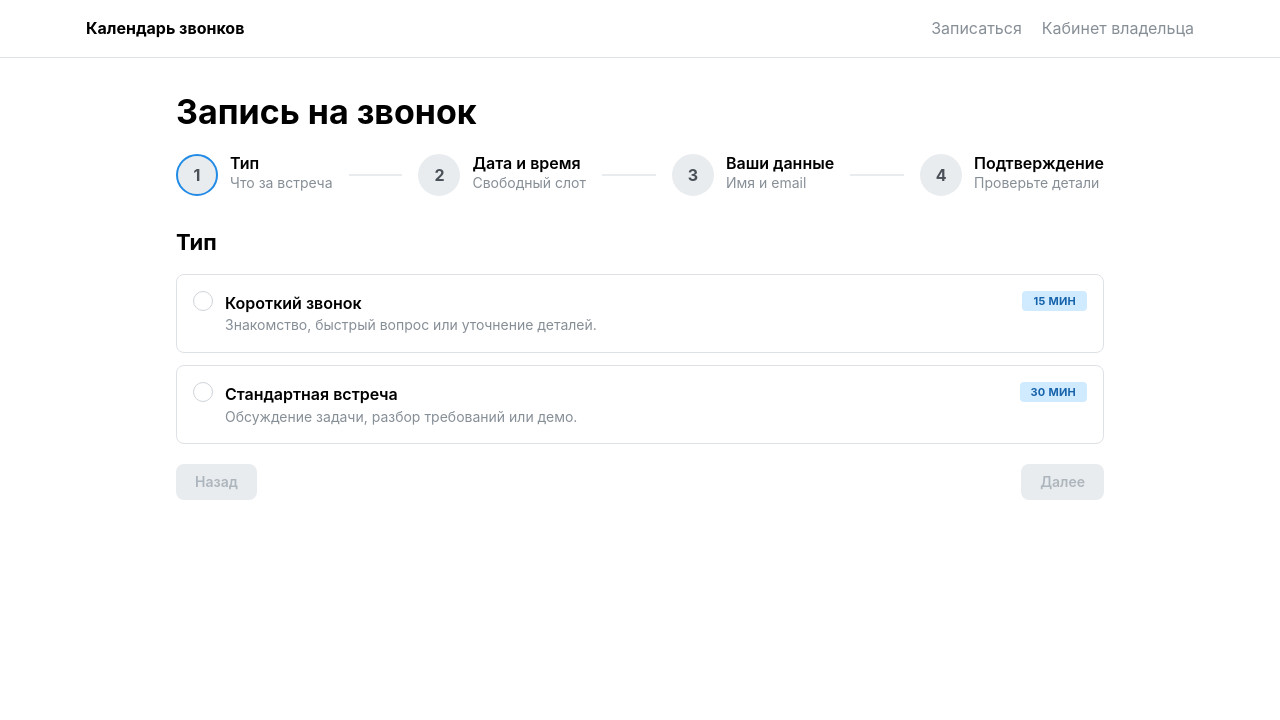
мастер записи /book › открывает «Далее» только после выбора типа и ведёт на следующий шаг
Expected: the button "Далее" is disabled, [1021,464,1104,500]
What coordinates should you click on to do the following:
click the radio button labelled "Короткий звонок"
I would click on:
 (293, 303)
Its box is [176,274,1104,353].
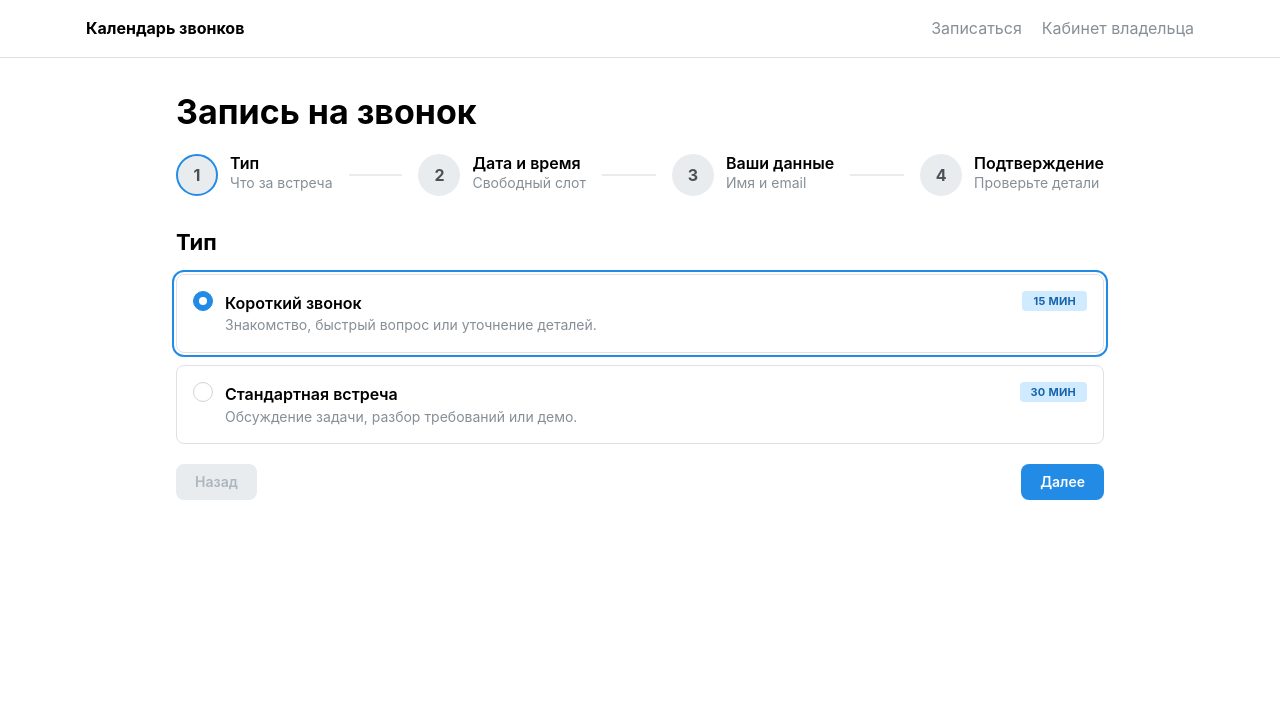
Expected: the radio button labelled "Короткий звонок" is checked, [176,274,1104,353]
Expected: the button "Далее" is enabled
What coordinates should you click on to do the following:
click the button "Далее"
I would click on:
 (1063, 482)
Its box is [1021,464,1104,500].
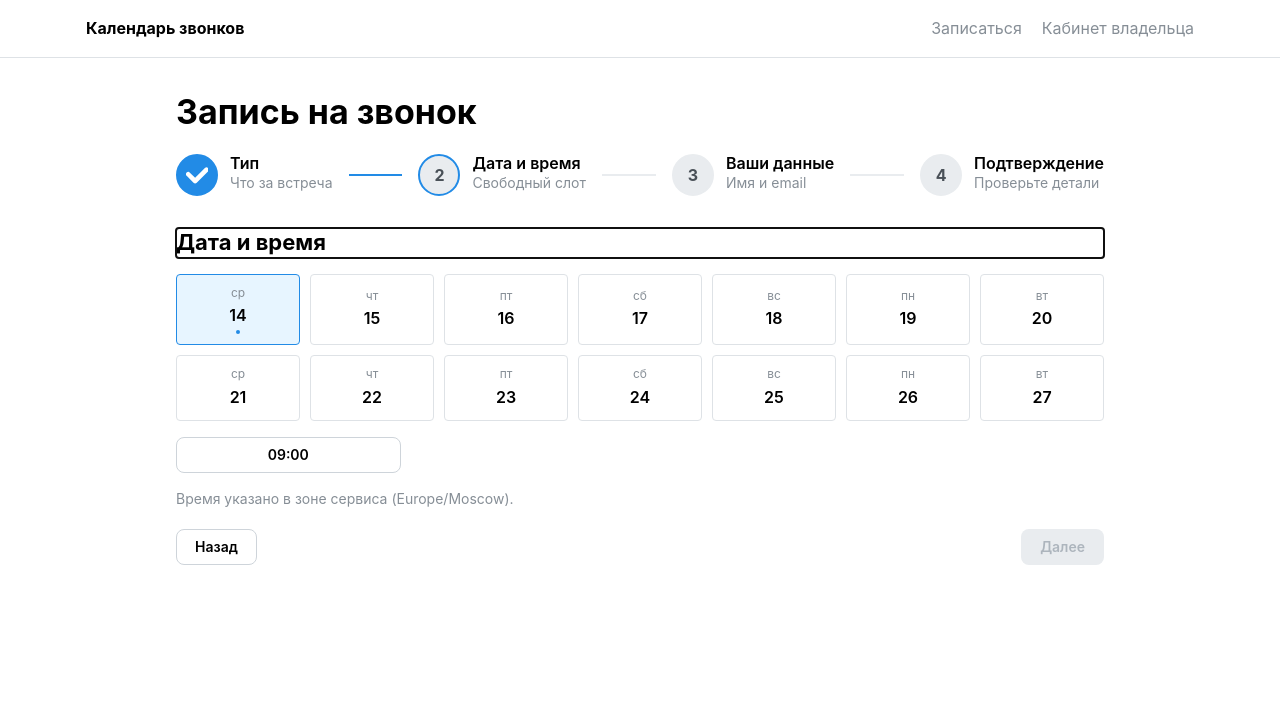
Expected: the element named "окно записи" is shown, [176,274,1104,421]
